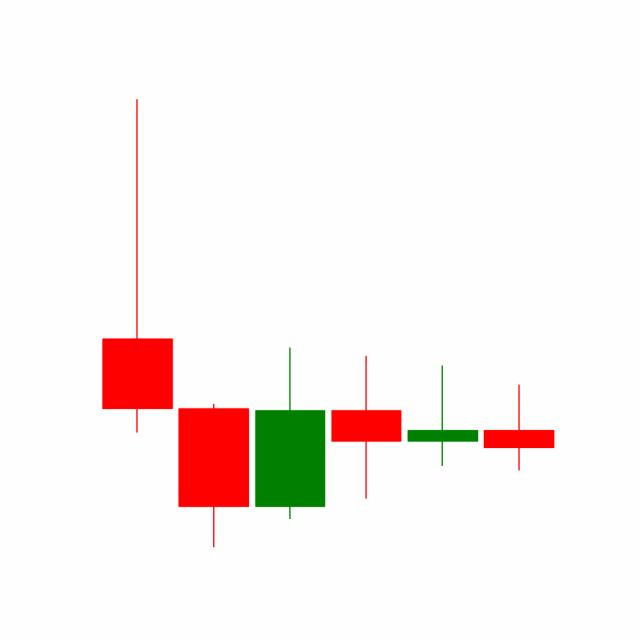Spinning Top: (403, 363, 481, 467)
